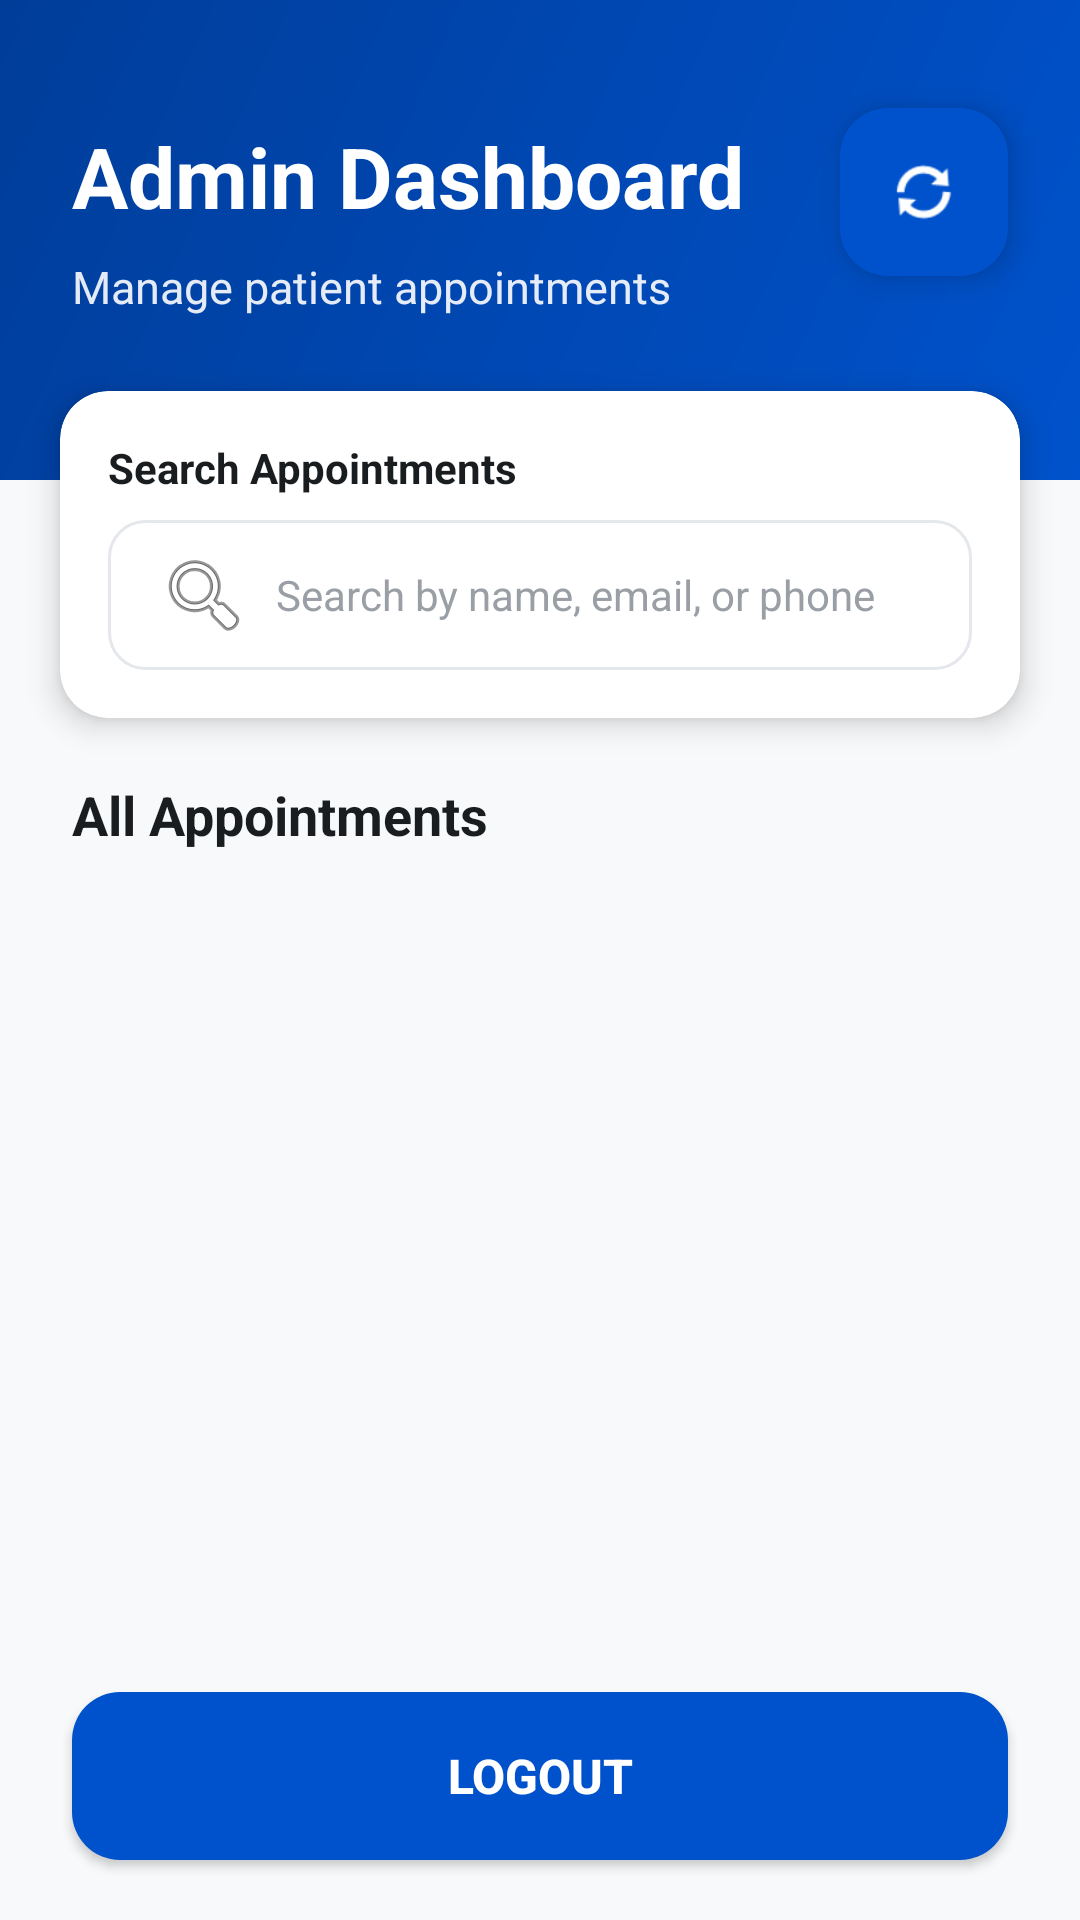

Point at icon controls on the screen. Image size 1080×1920, points as (x,y).
Refresh appointments: (923,192)
